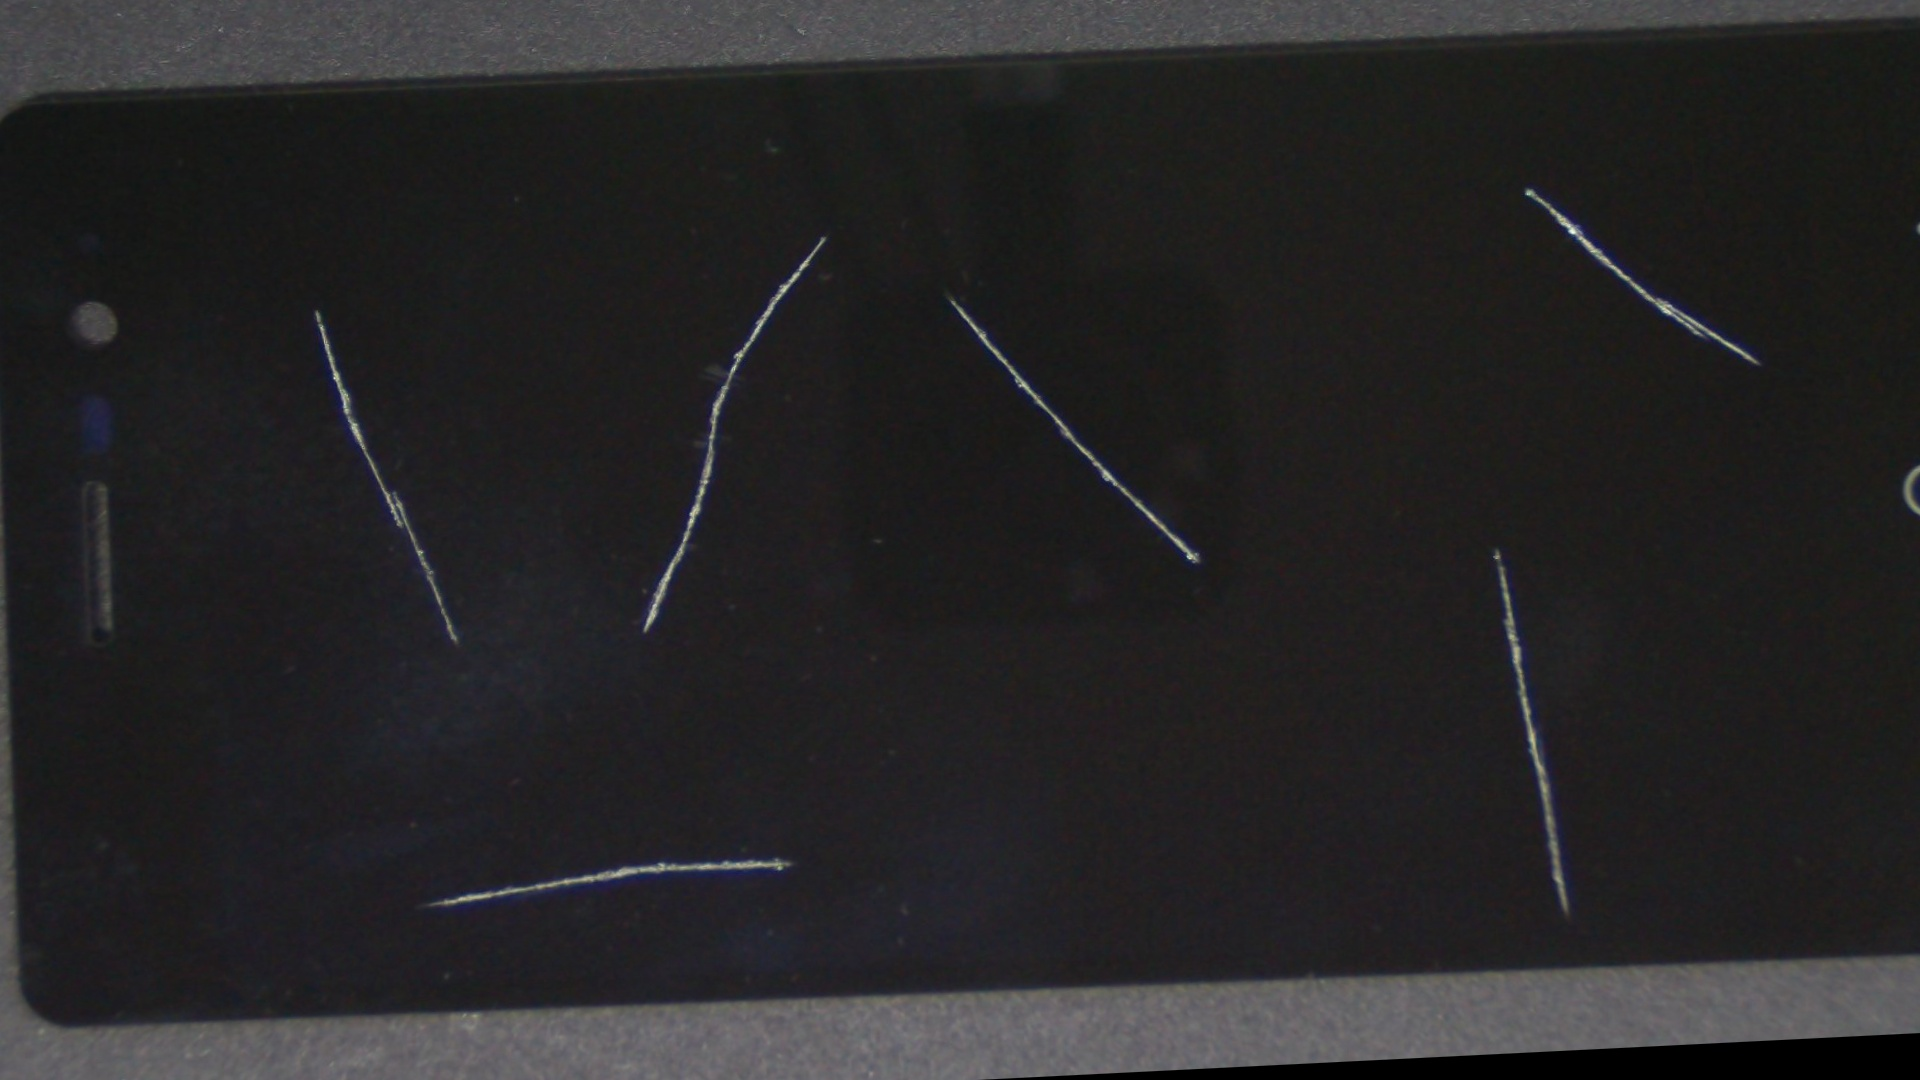oil: (708, 187, 1920, 913), (287, 378, 1015, 1080), (431, 80, 1461, 512), (720, 8, 1920, 376), (368, 55, 1270, 415), (117, 117, 516, 498)
